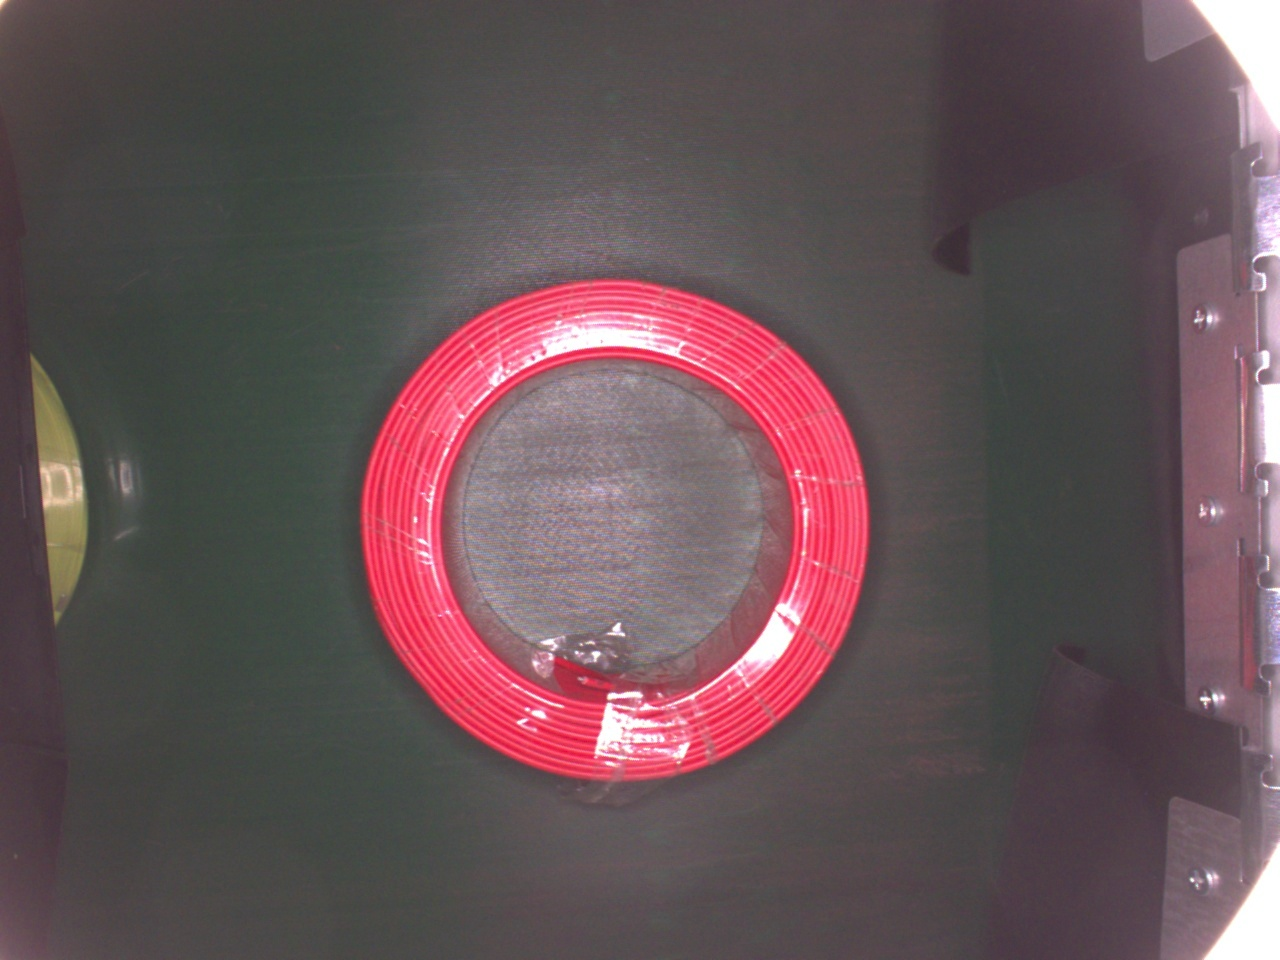red: (359, 271, 872, 789)
